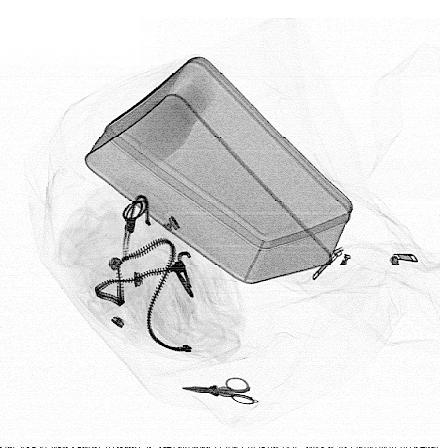Scissors: (181, 376, 260, 407)
